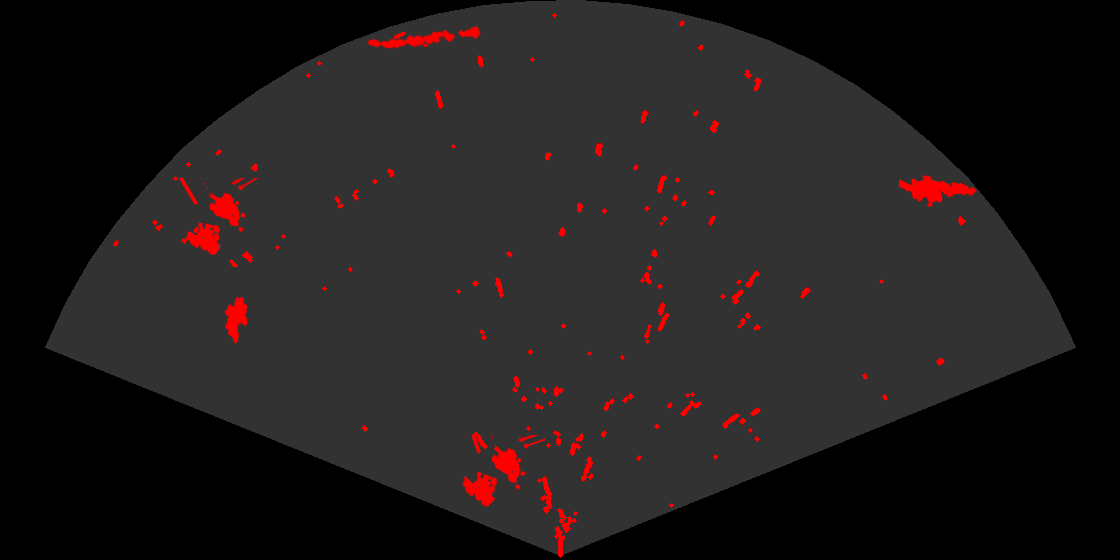AUV: (223, 295, 249, 345)
cage: (177, 178, 259, 257), (461, 435, 545, 508)
chain: (365, 25, 483, 51)
frogman: (899, 174, 978, 208)
